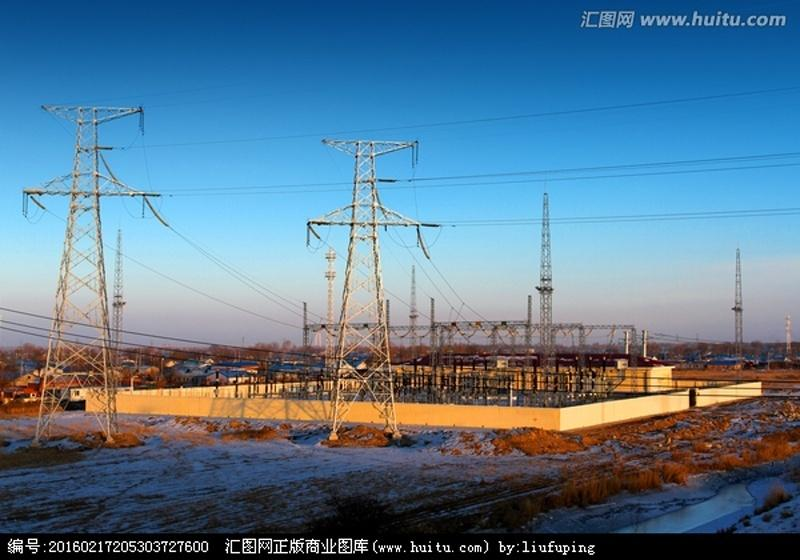power_tower: (10, 83, 161, 444), (310, 129, 420, 438)
